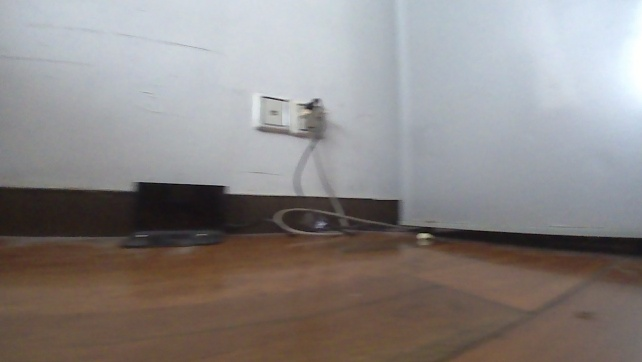charger: (115, 178, 227, 250)
wire: (272, 205, 402, 240)
